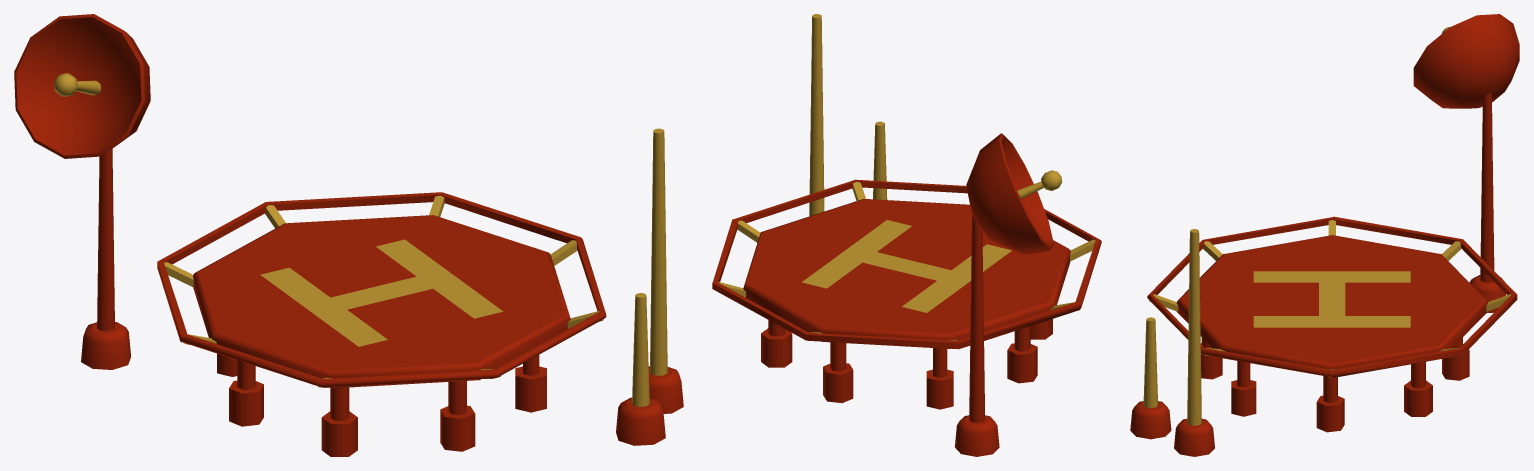
Rendered from Command center Top Fractured.fbx.
The picture shows the model from 3 angles, left to right: view 1: azimuth 30°, elevation 25°; view 2: azimuth 150°, elevation 25°; view 3: azimuth 270°, elevation 25°; orthographic projection. The views are drawn at different scales.
Visible parts, largest first — view 1: Command center Top Fracture, Command center Top Fracture.004, Command center Top Fracture.003, Command center Top Fracture.002, Command center Top Fracture.001; view 2: Command center Top Fracture, Command center Top Fracture.004, Command center Top Fracture.003, Command center Top Fracture.002, Command center Top Fracture.001; view 3: Command center Top Fracture, Command center Top Fracture.004, Command center Top Fracture.003, Command center Top Fracture.002, Command center Top Fracture.001.
Part boxes in pixels (x1,y1,x2,y2): Command center Top Fracture: (251,192,606,456); Command center Top Fracture.004: (157,197,375,426); Command center Top Fracture.003: (14,14,150,369); Command center Top Fracture.002: (648,128,683,413); Command center Top Fracture.001: (616,293,665,445); Command center Top Fracture: (712,179,1101,367); Command center Top Fracture.004: (759,271,1091,409); Command center Top Fracture.003: (955,133,1062,456); Command center Top Fracture.002: (809,14,824,216); Command center Top Fracture.001: (873,121,887,199); Command center Top Fracture: (1147,228,1490,432); Command center Top Fracture.004: (1268,216,1517,380); Command center Top Fracture.003: (1413,14,1519,312); Command center Top Fracture.002: (1174,229,1214,456); Command center Top Fracture.001: (1130,317,1171,439).
Bounding box in the file's own units: 575 × 412 × 514.
